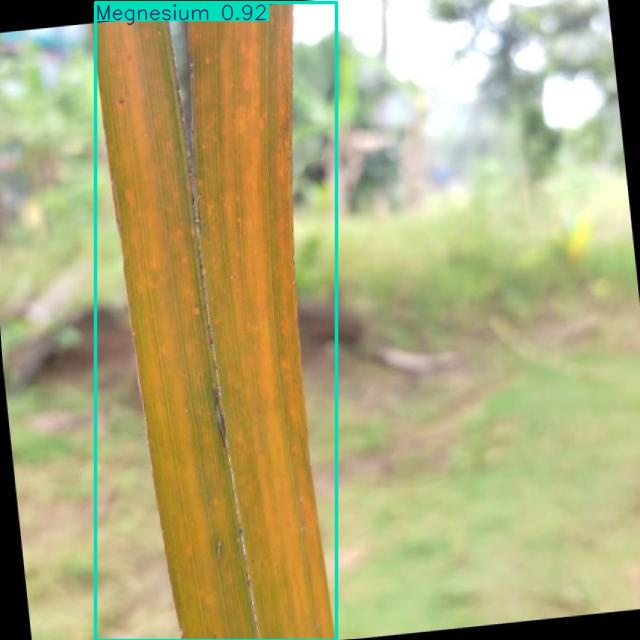Megnesium: (96, 3, 337, 640)
